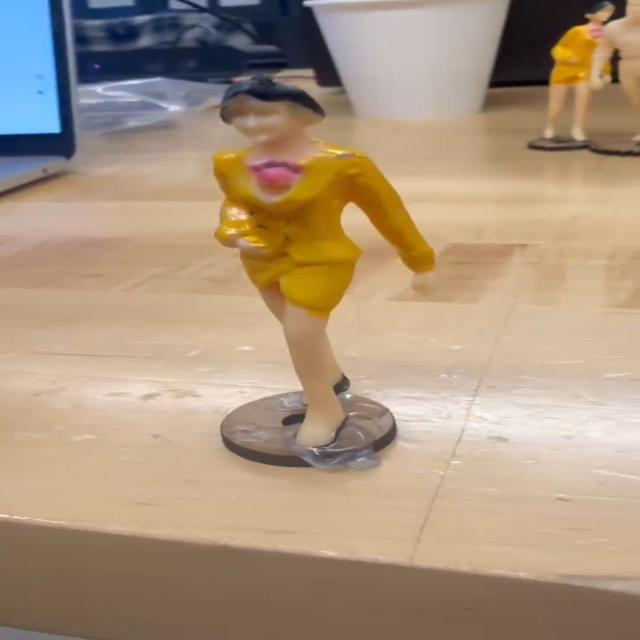Authorized: (184, 65, 448, 479)
